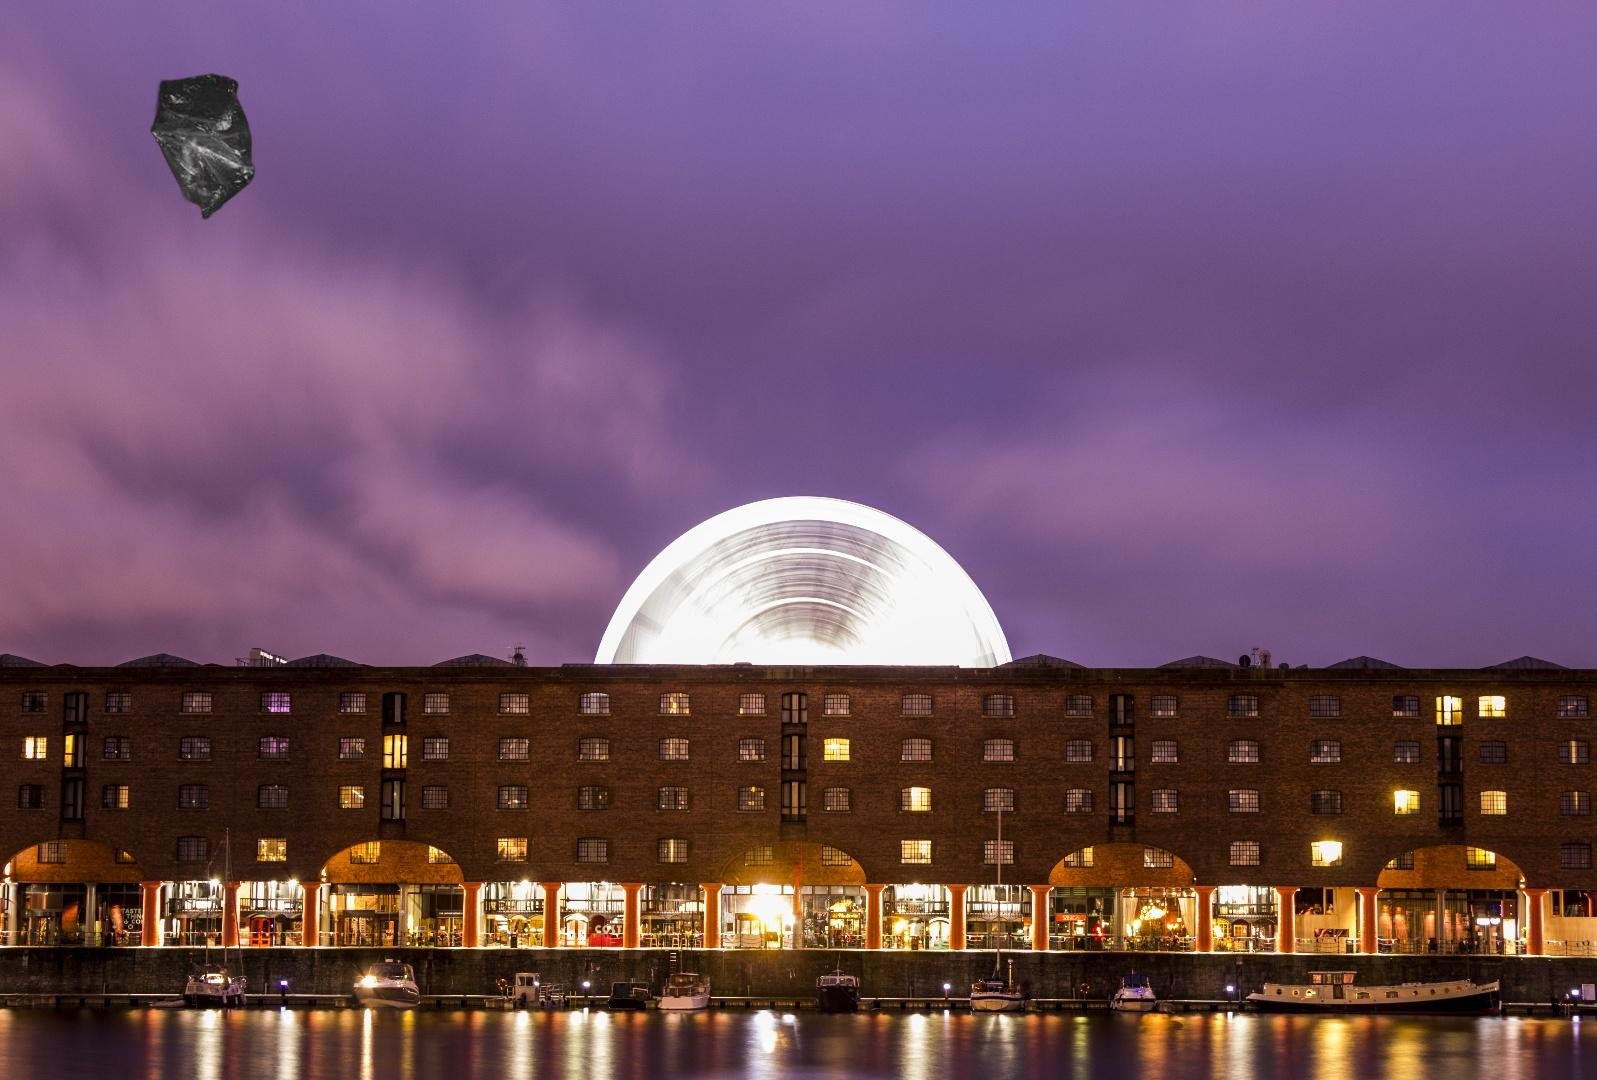plastic-bag: (148, 71, 258, 223)
